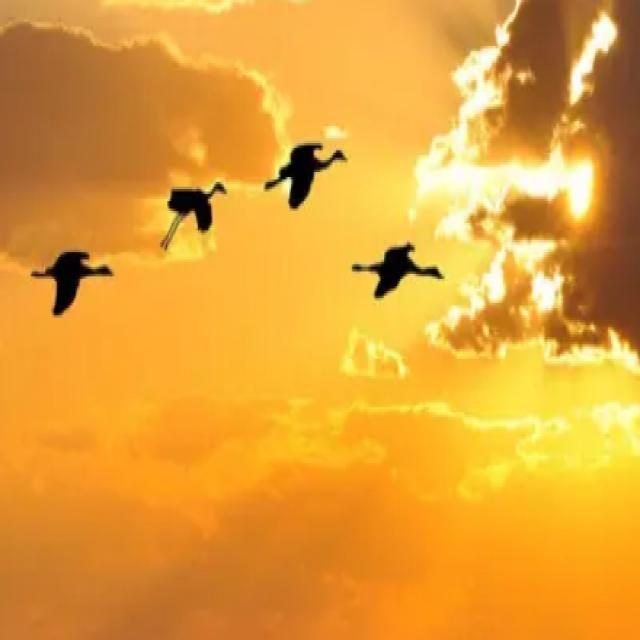bird: (263, 143, 348, 211), (31, 252, 113, 318), (352, 245, 444, 301), (159, 182, 228, 250)
